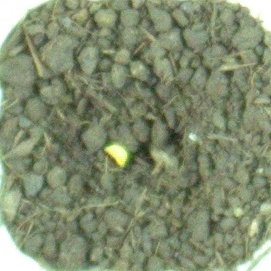pepper seed: (36, 57, 168, 228)
